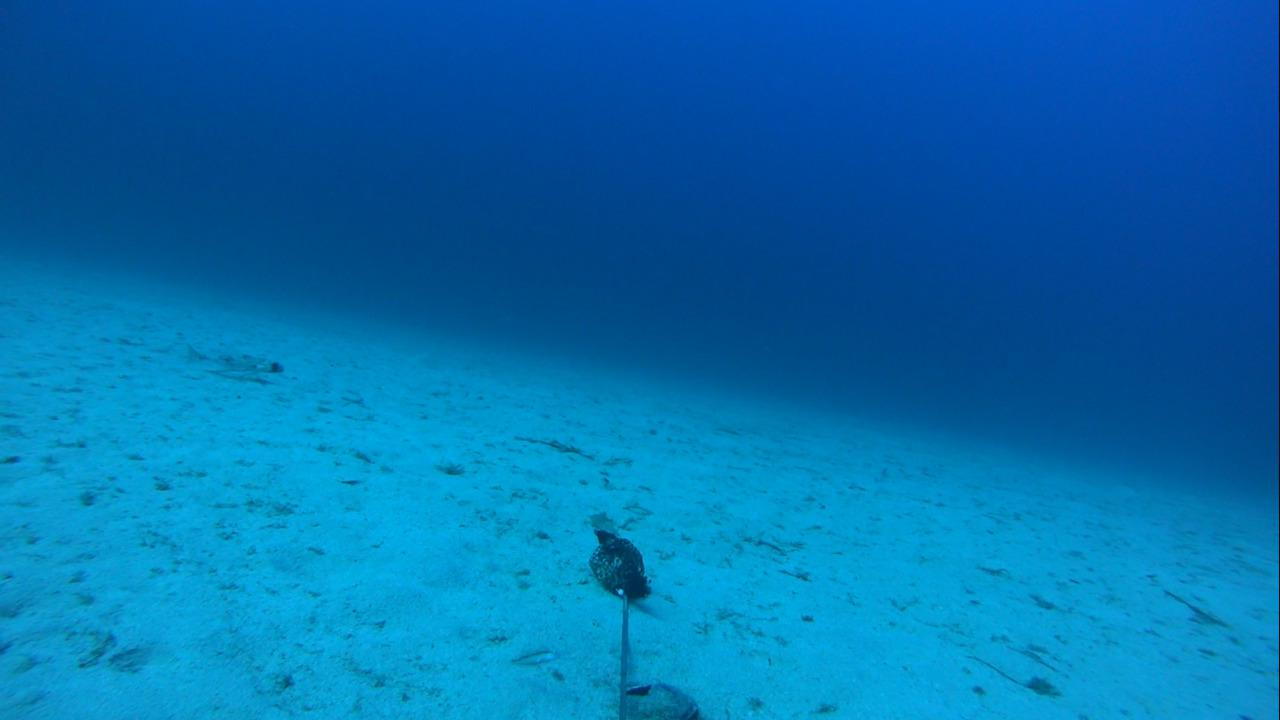dactylopterus: (167, 339, 287, 382)
